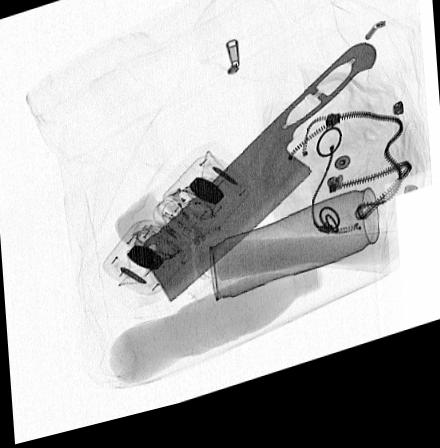Knife: (137, 59, 378, 314)
